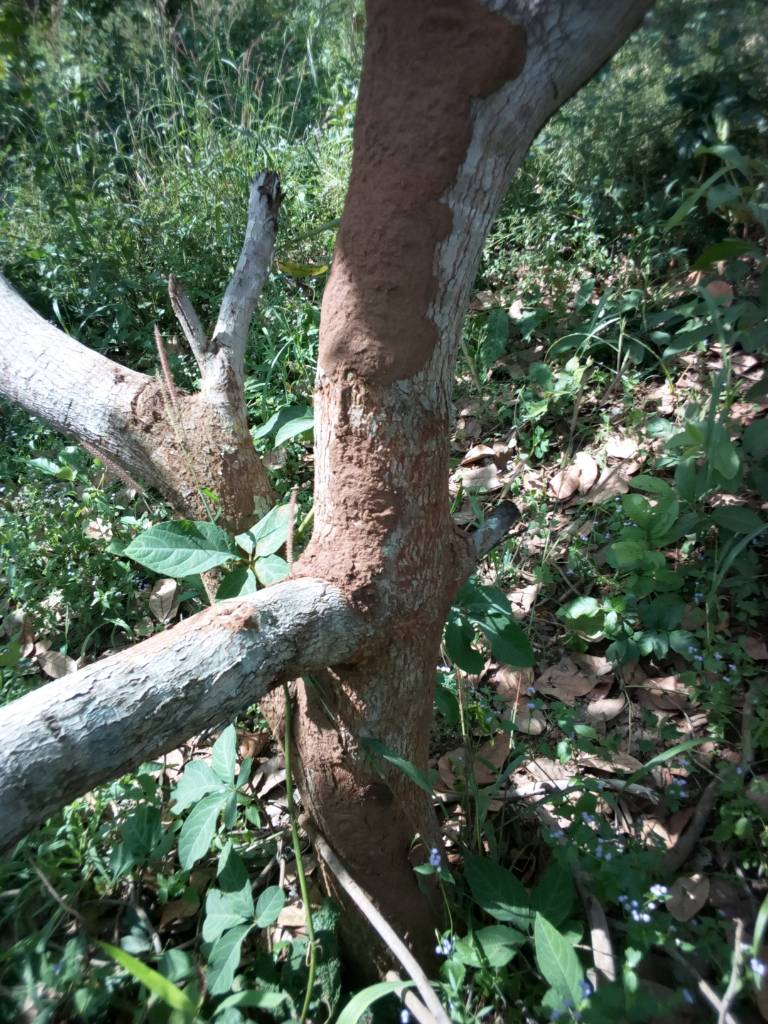Termites: (329, 3, 505, 382), (304, 700, 440, 942), (307, 438, 388, 592), (143, 389, 243, 502)
